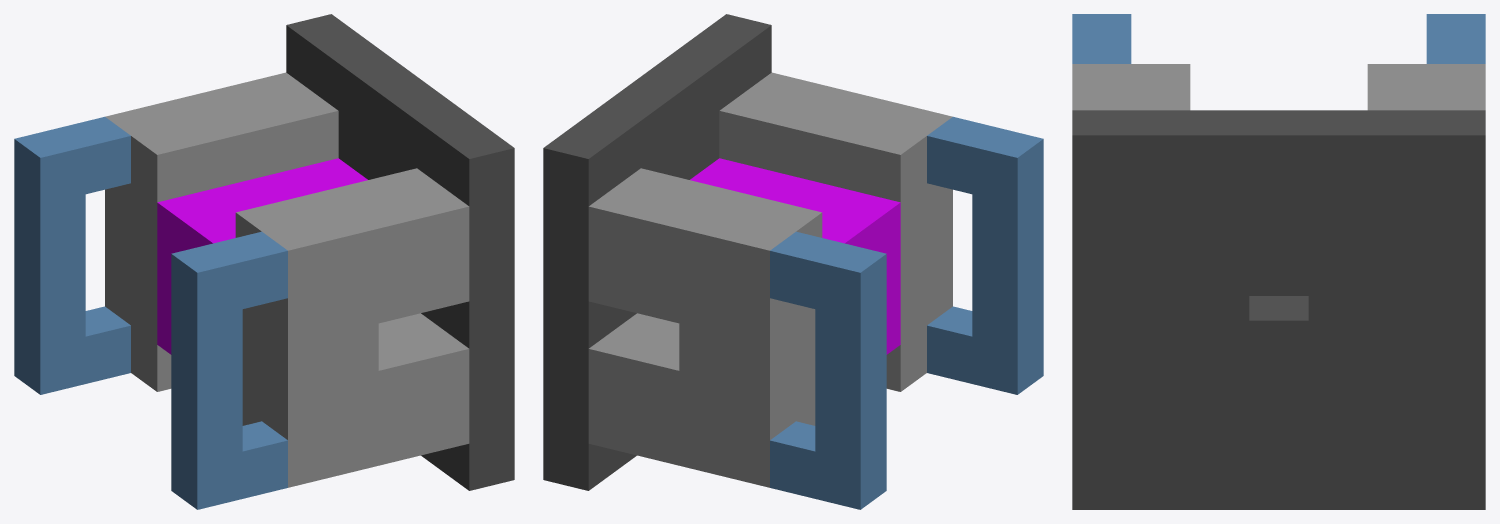
The model's file is WeaponBattery#3.obj.
3 renders of one model, left to right at view 1: azimuth 30°, elevation 25°; view 2: azimuth 150°, elevation 25°; view 3: azimuth 270°, elevation 25°, orthographic. The views are drawn at different scales.
Size of the model in its own units: 0.8 by 0.7 by 0.7.
Materials: 1 (1 with a texture image).
